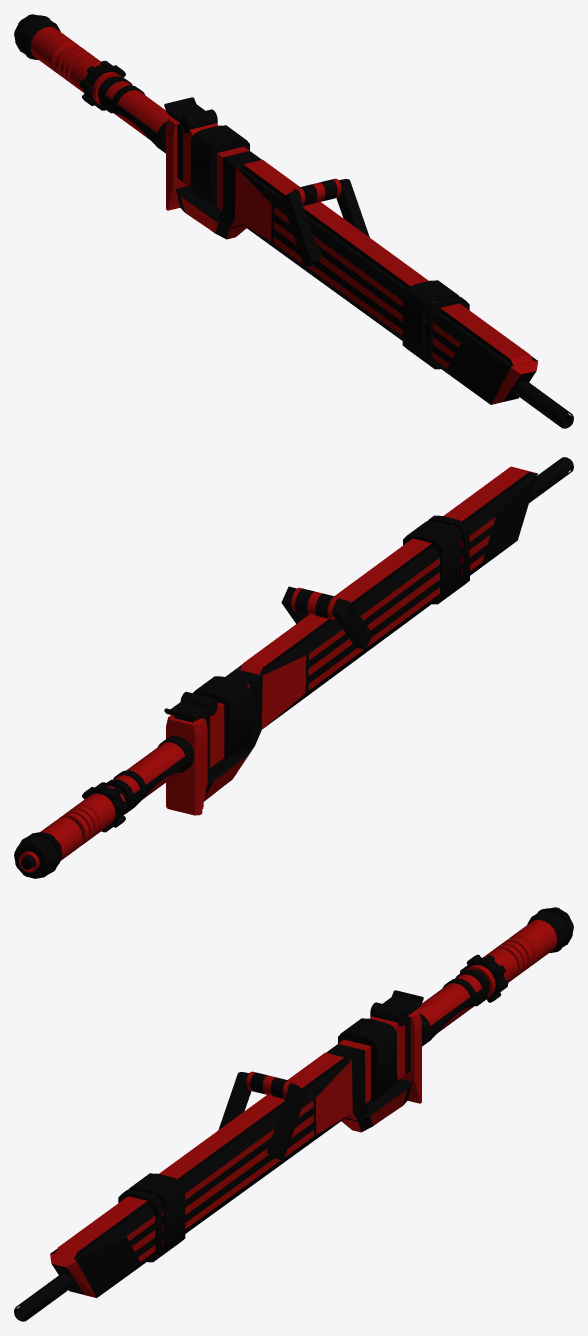
The model's file is BladeOfAThousandFlames_Sheathed.FBX.fbx.
3 views of the same model, one above another, from view 1: azimuth 30°, elevation 25°; view 2: azimuth 150°, elevation 25°; view 3: azimuth 330°, elevation 25° (orthographic).
Parts seen in each view (by area): view 1: Box018, Box022, Box019, Box020, Leather Handle001, Cylinder049, Box014, Cylinder050, Cylinder048, Cylinder055, Box021, Cylinder054 (+3 smaller); view 2: Box018, Box014, Box022, Box020, Leather Handle001, Cylinder049, Box019, Cylinder054, Cylinder050, Cylinder047, Cylinder048, Cylinder041 (+3 smaller); view 3: Box018, Box022, Box019, Box020, Leather Handle001, Cylinder049, Box014, Cylinder050, Cylinder048, Cylinder055, Box021, Cylinder054 (+3 smaller).
Part boxes in pixels (bbox=[...]): Box018: bbox=[176, 123, 538, 404]; Box022: bbox=[190, 125, 249, 208]; Box019: bbox=[281, 179, 369, 267]; Box020: bbox=[402, 280, 459, 363]; Leather Handle001: bbox=[105, 81, 170, 138]; Cylinder049: bbox=[99, 76, 167, 153]; Box014: bbox=[166, 116, 187, 210]; Cylinder050: bbox=[164, 97, 217, 133]; Cylinder048: bbox=[30, 26, 78, 73]; Cylinder055: bbox=[511, 381, 573, 428]; Box021: bbox=[425, 297, 469, 369]; Cylinder054: bbox=[292, 178, 341, 205]; Box018: bbox=[201, 466, 537, 801]; Box014: bbox=[166, 715, 207, 815]; Box022: bbox=[193, 676, 250, 759]; Box020: bbox=[403, 521, 462, 604]; Leather Handle001: bbox=[114, 742, 185, 798]; Cylinder049: bbox=[106, 736, 193, 814]; Box019: bbox=[281, 586, 372, 650]; Cylinder054: bbox=[291, 587, 340, 619]; Cylinder050: bbox=[164, 691, 217, 722]; Cylinder047: bbox=[14, 836, 54, 878]; Cylinder048: bbox=[40, 817, 82, 860]; Cylinder041: bbox=[74, 785, 125, 834]; Box018: bbox=[50, 1016, 411, 1297]; Box022: bbox=[338, 1018, 397, 1101]; Box019: bbox=[218, 1072, 306, 1160]; Box020: bbox=[128, 1173, 185, 1256]; Leather Handle001: bbox=[417, 974, 482, 1031]; Cylinder049: bbox=[420, 969, 488, 1046]; Box014: bbox=[400, 1009, 421, 1103]; Cylinder050: bbox=[370, 990, 423, 1026]; Cylinder048: bbox=[509, 919, 557, 966]; Cylinder055: bbox=[14, 1273, 76, 1321]; Box021: bbox=[118, 1190, 162, 1262]; Cylinder054: bbox=[246, 1071, 295, 1098].
Size of the model in its own units: 73.41 by 136 by 1121.
